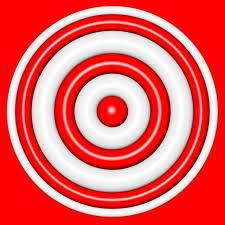target_red: (6, 4, 218, 217)
